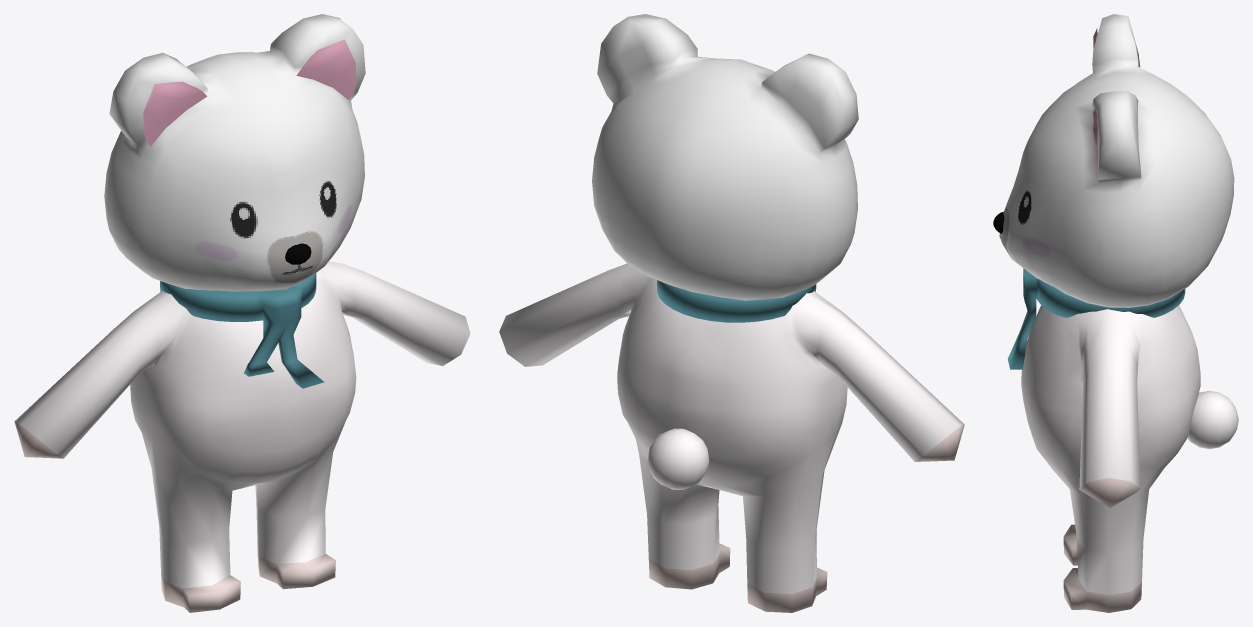
The model's file is Jaber_PolarBear.glb.
3 views of the same model, side by side, from view 1: azimuth 30°, elevation 25°; view 2: azimuth 150°, elevation 25°; view 3: azimuth 270°, elevation 25° (orthographic). The views are drawn at different scales.
Visible parts, largest first — view 1: PolarBeat torso, PolarBear head, Scarf, PolarBear ears inner; view 2: PolarBeat torso, PolarBear head, Scarf, Polarbear tail; view 3: PolarBear head, PolarBeat torso, Scarf, Polarbear tail.
Boxes of the visible parts, bbox=[...] form: PolarBeat torso: bbox=[14, 261, 470, 612]; PolarBear head: bbox=[104, 14, 365, 291]; Scarf: bbox=[160, 273, 324, 388]; PolarBear ears inner: bbox=[143, 39, 355, 146]; PolarBeat torso: bbox=[499, 263, 964, 612]; PolarBear head: bbox=[592, 14, 858, 300]; Scarf: bbox=[657, 280, 816, 322]; Polarbear tail: bbox=[648, 428, 709, 489]; PolarBear head: bbox=[999, 14, 1234, 307]; PolarBeat torso: bbox=[1021, 305, 1200, 612]; Scarf: bbox=[1008, 268, 1185, 369]; Polarbear tail: bbox=[1187, 391, 1238, 449].
Size of the model in its own units: 4.21 by 4.88 by 2.1.
6 materials, 1 textured.
